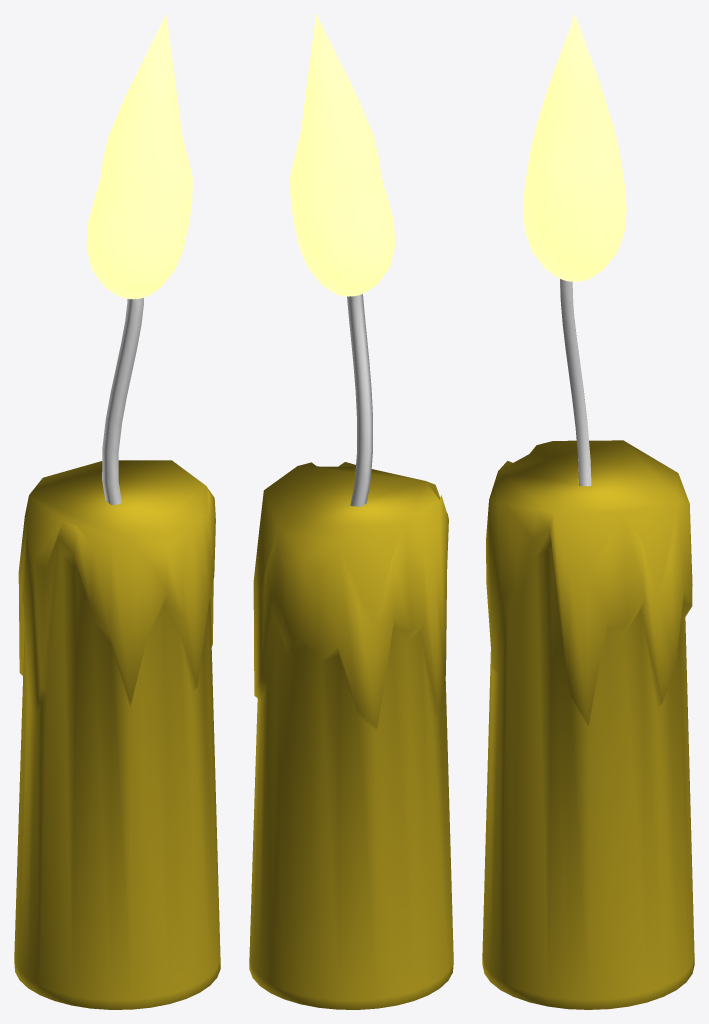
Rendered from vela.glb.
3 views of the same model, side by side, from view 1: azimuth 30°, elevation 25°; view 2: azimuth 150°, elevation 25°; view 3: azimuth 270°, elevation 25° (orthographic). The views are drawn at different scales.
Visible parts, largest first — view 1: candle, flame, candleWick; view 2: candle, flame, candleWick; view 3: candle, flame, candleWick.
Part boxes in pixels (x1=…): candle: x1=14, y1=460, x2=220, y2=1009; flame: x1=86, y1=14, x2=192, y2=299; candleWick: x1=102, y1=297, x2=143, y2=505; candle: x1=249, y1=462, x2=453, y2=1009; flame: x1=290, y1=14, x2=395, y2=296; candleWick: x1=347, y1=294, x2=372, y2=506; candle: x1=482, y1=440, x2=694, y2=1009; flame: x1=523, y1=14, x2=626, y2=281; candleWick: x1=560, y1=279, x2=591, y2=486.
Size of the model in its own units: 0.0297 by 0.1503 by 0.0297.
